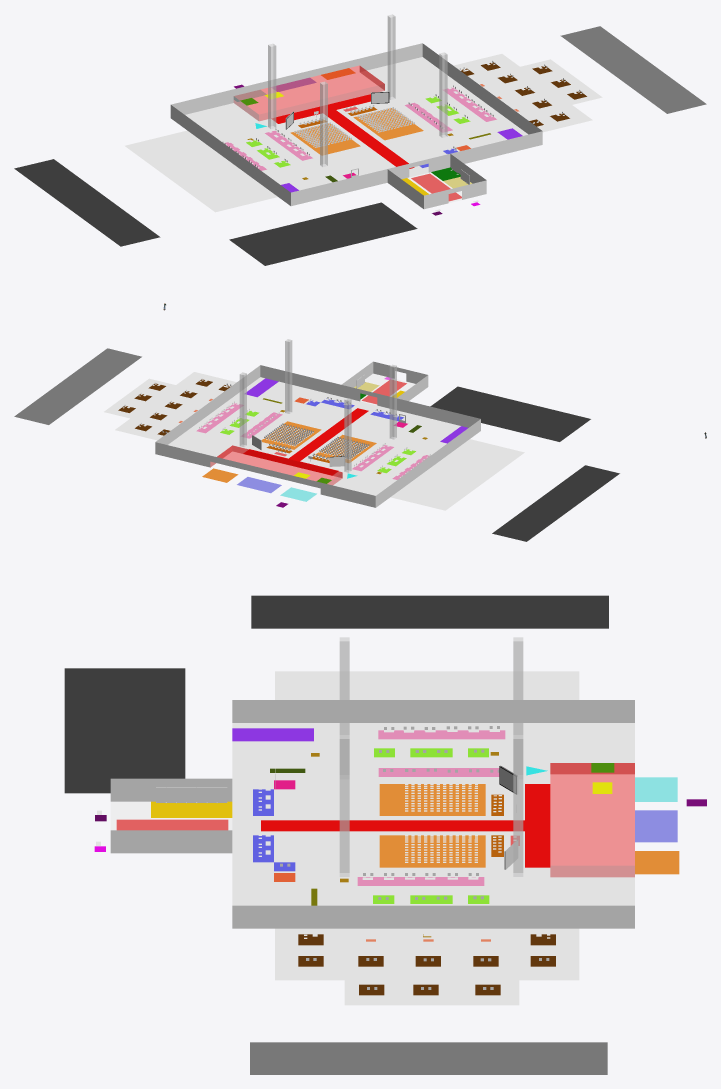
File: Bahan Denah 3D.obj
3 views of the same model, one above another, from view 1: azimuth 30°, elevation 25°; view 2: azimuth 150°, elevation 25°; view 3: azimuth 270°, elevation 25° (orthographic). The views are drawn at different scales.
Parts seen in each view (by area): view 1: Mesh585 Model, Mesh584 Model, Mesh589 Model, Mesh586 Model; view 2: Mesh585 Model, Mesh584 Model, Mesh589 Model, Mesh586 Model, Mesh562 Group652 Model; view 3: Mesh585 Model, Mesh584 Model, Mesh586 Model, Mesh589 Model, Mesh562 Group652 Model, Mesh561 Group652 Model, Mesh560 Group652 Model.
Part boxes in pixels (x1,y1,x2,y2): Mesh585 Model: (125,14,602,212); Mesh584 Model: (229,202,417,265); Mesh589 Model: (560,26,706,113); Mesh586 Model: (14,159,160,246); Mesh585 Model: (104,339,524,510); Mesh584 Model: (430,386,590,441); Mesh589 Model: (14,348,141,424); Mesh586 Model: (492,465,619,541); Mesh562 Group652 Model: (237,477,281,493); Mesh585 Model: (110,637,634,1005); Mesh584 Model: (64,668,185,793); Mesh586 Model: (251,595,608,628); Mesh589 Model: (250,1042,607,1074); Mesh562 Group652 Model: (635,810,677,842); Mesh561 Group652 Model: (635,851,679,874); Mesh560 Group652 Model: (635,777,677,801).
Bounding box in the file's own units: 140 × 20.12 × 81.94.
